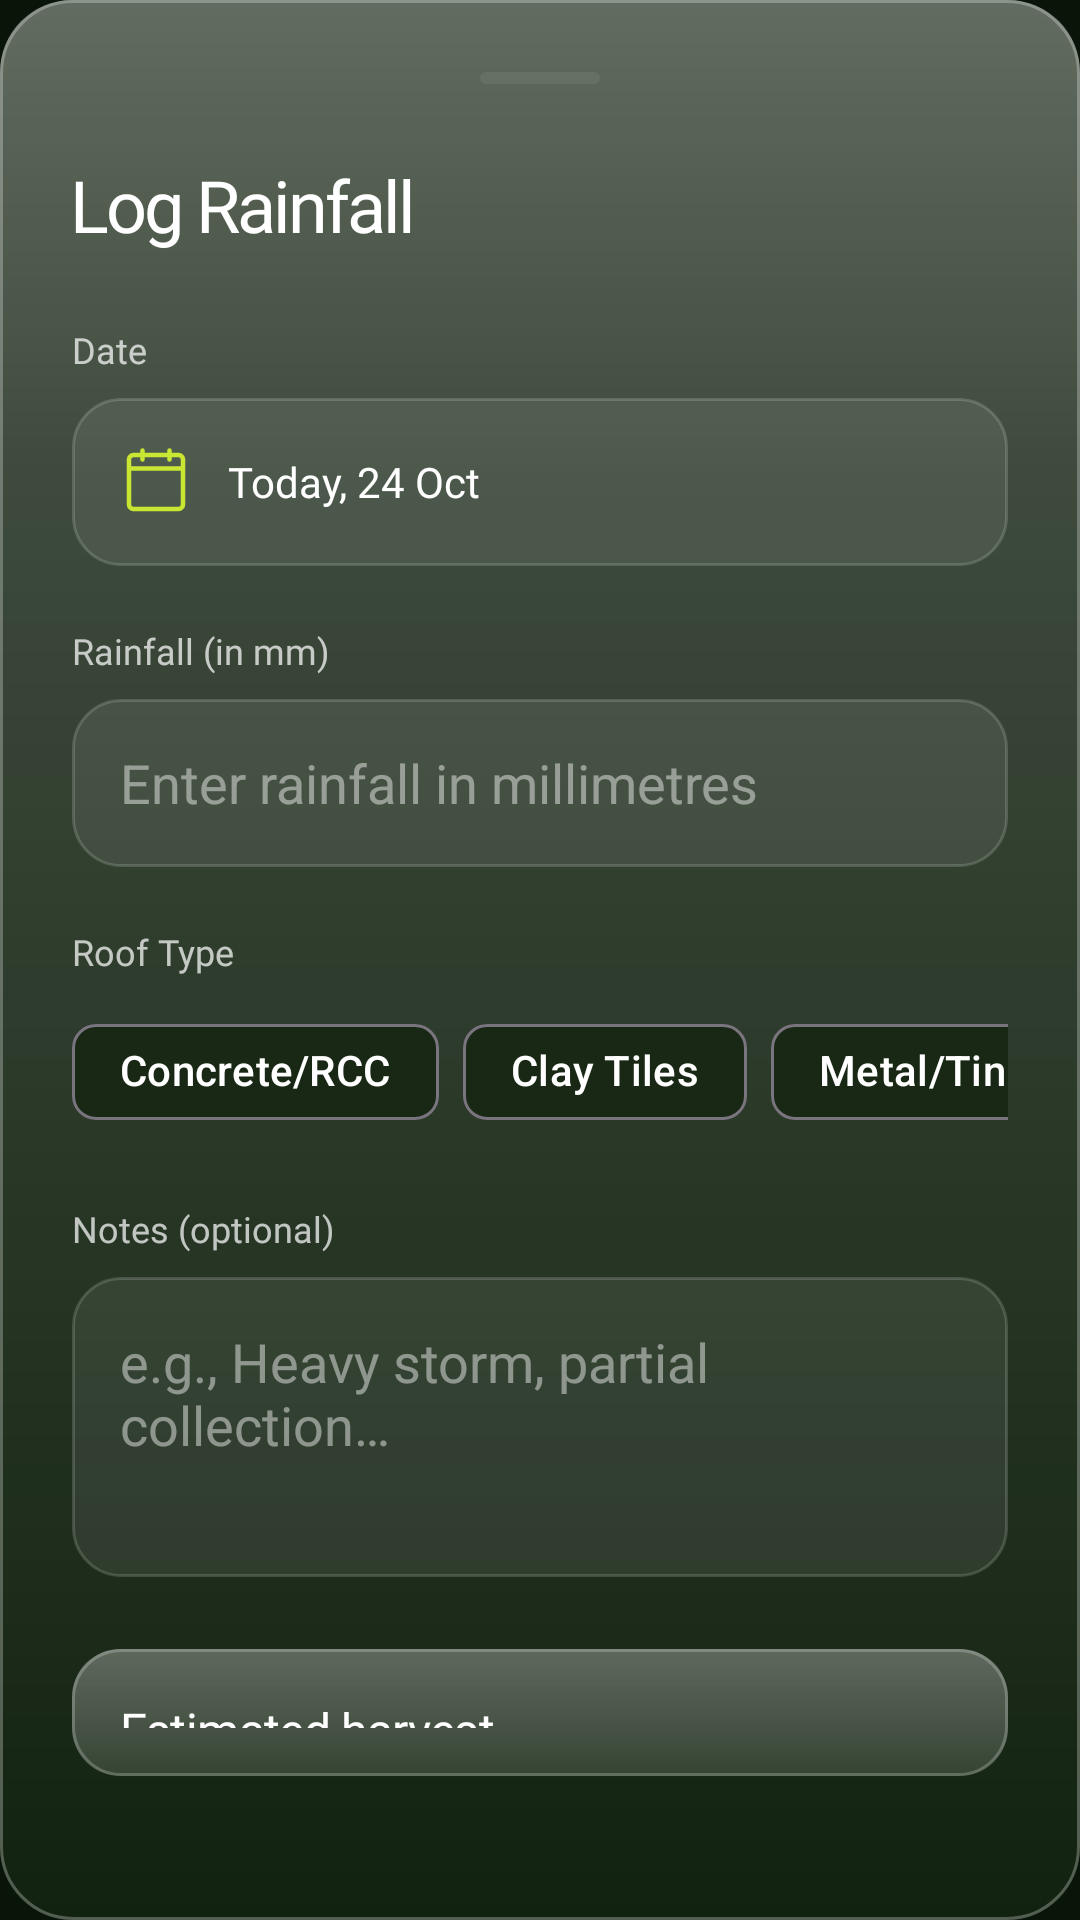

Icon bounding boxes for this 1080*1920 phone screenshot, format bbox(x1, y1, x2, y2):
calendar: bbox(126, 448, 186, 512)
